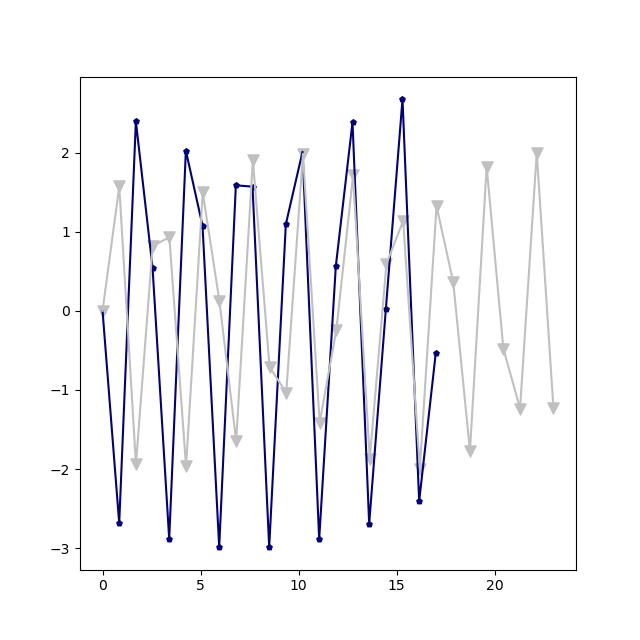pentagon: (99, 307, 108, 316), (115, 519, 124, 528), (132, 117, 141, 126), (149, 264, 158, 273), (165, 535, 174, 544), (182, 147, 191, 156), (199, 222, 208, 231), (215, 543, 224, 552), (232, 181, 241, 190), (249, 183, 258, 192), (265, 543, 274, 552), (282, 220, 291, 229), (299, 148, 308, 157), (315, 535, 324, 544), (332, 262, 341, 271), (349, 118, 358, 127), (365, 520, 374, 529), (382, 305, 391, 314), (398, 95, 407, 104), (415, 497, 424, 506), (432, 349, 441, 358)
triangle_down: (97, 305, 110, 318), (113, 180, 126, 193), (130, 458, 143, 471), (147, 240, 160, 253), (163, 231, 176, 244), (180, 460, 193, 473), (197, 186, 210, 199), (213, 295, 226, 308), (230, 435, 243, 448), (247, 154, 260, 167), (264, 361, 277, 374), (280, 387, 293, 400), (297, 148, 310, 161), (314, 417, 327, 430), (330, 324, 343, 337), (347, 169, 360, 182), (364, 453, 377, 466), (380, 258, 393, 271), (397, 215, 410, 228), (414, 463, 427, 476), (431, 200, 444, 213), (447, 276, 460, 289), (464, 445, 477, 458), (481, 161, 494, 174), (497, 343, 510, 356), (514, 403, 527, 416), (531, 147, 544, 160), (547, 402, 560, 415)
